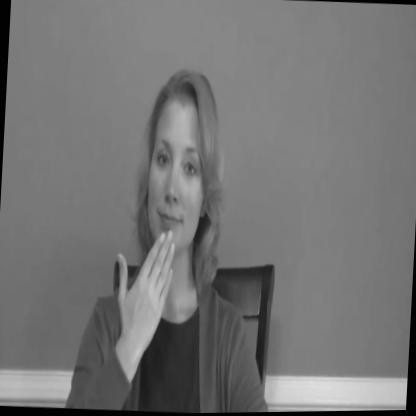ThankYou: (72, 63, 286, 415)
